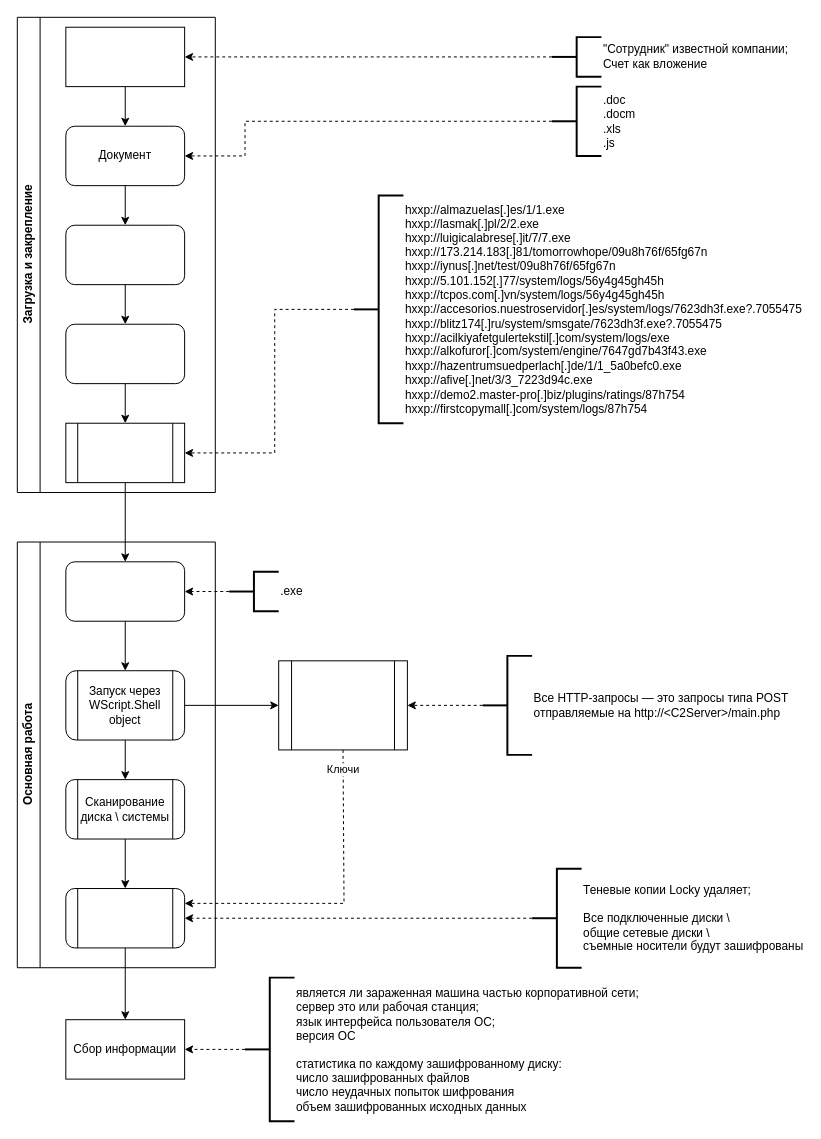
Some shapes in this 821 by 1139 pixel diagram are drawn without their labels. The centre of each missing label's shape, as x and y in pixels:
Загрузка: point (125, 452)
Исполняемый файл: point (125, 591)
Макрос: point (125, 254)
Письмо: point (125, 56)
Подключается к своим C2-серверам для обмена ключами шифрования: point (342, 705)
Скрипт: point (125, 353)
Шифрование: point (125, 918)
